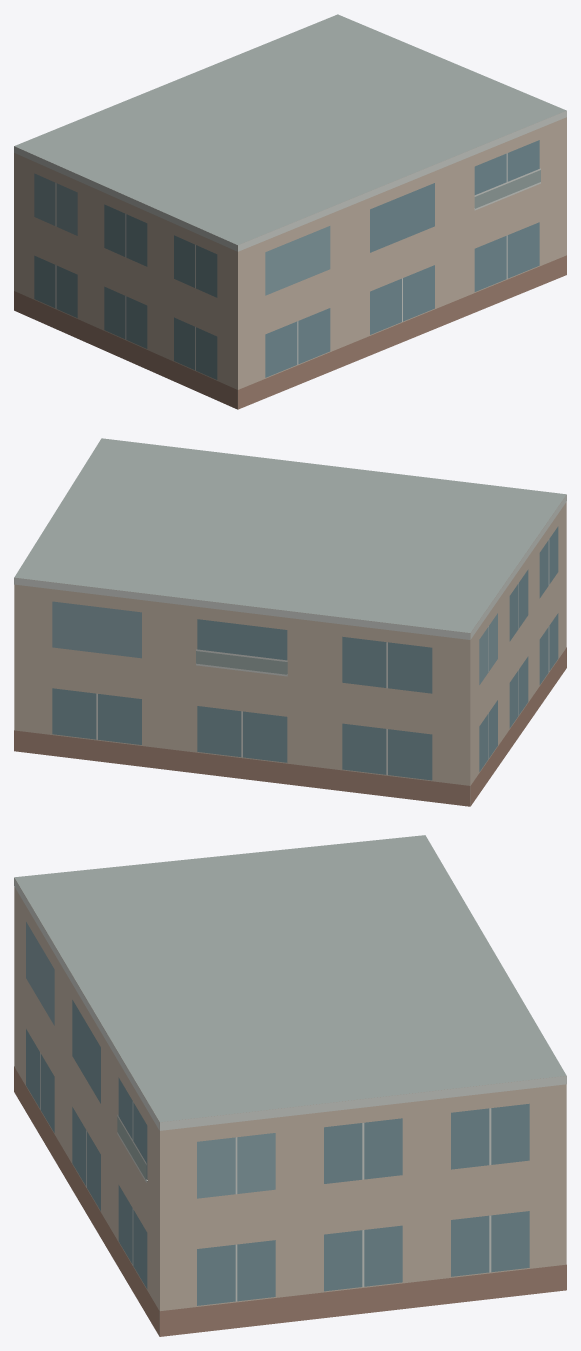
Rendered from survey-upis-32704128.glb.
The picture shows the model from 3 angles, top to bottom: view 1: azimuth 30°, elevation 25°; view 2: azimuth 150°, elevation 25°; view 3: azimuth 270°, elevation 25°; orthographic projection. The views are drawn at different scales.
Parts seen in each view (by area): view 1: survey-upis-32704128.tmp; view 2: survey-upis-32704128.tmp; view 3: survey-upis-32704128.tmp.
Part boxes in pixels (x1,y1,x2,y2): survey-upis-32704128.tmp: [14, 14, 566, 409]; survey-upis-32704128.tmp: [14, 438, 566, 806]; survey-upis-32704128.tmp: [14, 835, 566, 1336].
Bounding box in the file's own units: 17.53 × 6.1 × 14.25.
